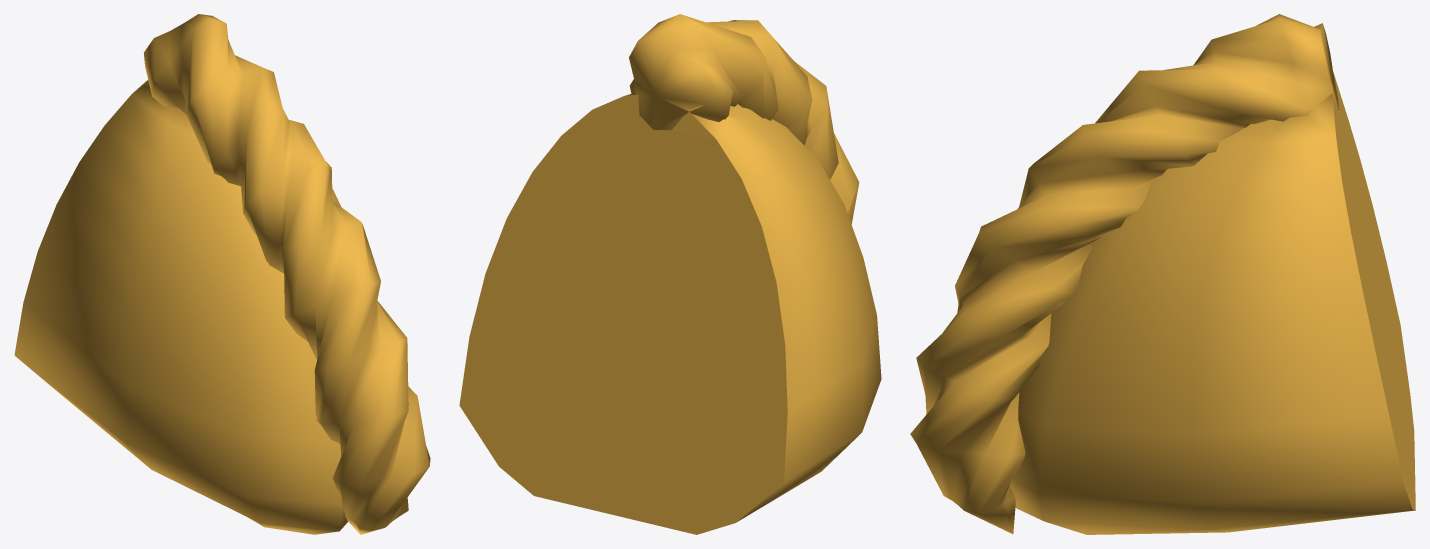
The model's file is Mitadempanada.fbx.
3 renders of one model, left to right at view 1: azimuth 30°, elevation 25°; view 2: azimuth 150°, elevation 25°; view 3: azimuth 270°, elevation 25°, orthographic. The views are drawn at different scales.
Visible parts, largest first — view 1: MitadEmpanada; view 2: MitadEmpanada; view 3: MitadEmpanada.
Part boxes in pixels (bbox=[...]): MitadEmpanada: bbox=[14, 14, 430, 534]; MitadEmpanada: bbox=[459, 14, 881, 534]; MitadEmpanada: bbox=[910, 14, 1415, 534].
Size of the model in its own units: 64.48 by 95.28 by 87.07.
